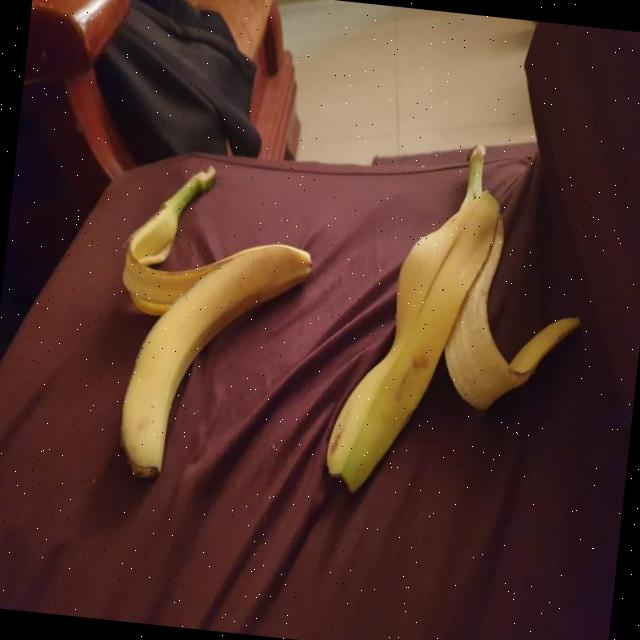banana-peel: (319, 129, 596, 514), (113, 226, 314, 494)
